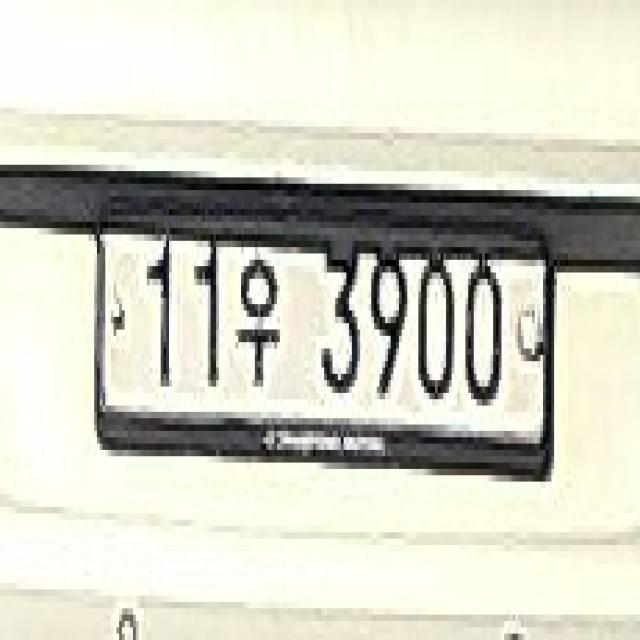0: (457, 247, 507, 437), (410, 247, 463, 425)
1: (136, 222, 188, 399), (185, 222, 232, 412)
3: (316, 234, 368, 412)
9: (368, 241, 413, 418)
license_plate: (88, 177, 560, 507)
u: (230, 234, 288, 412)
